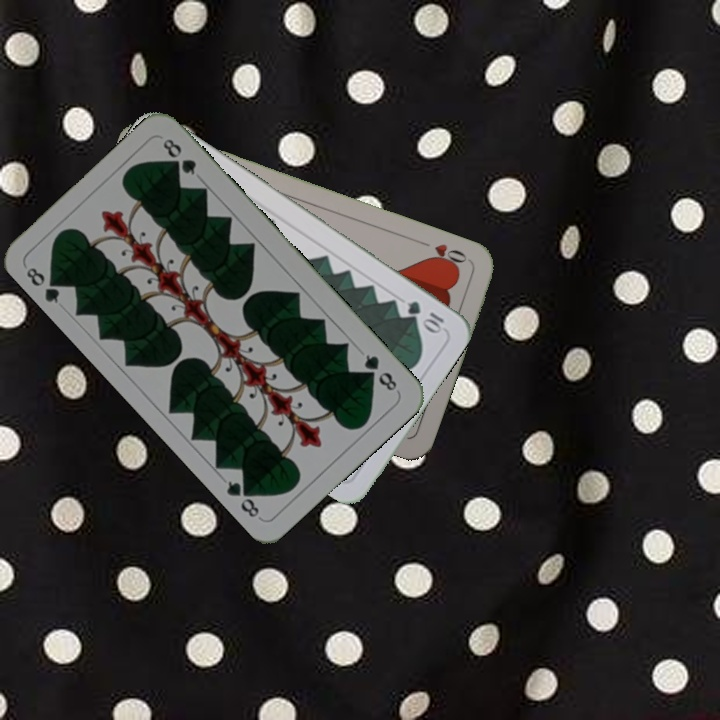G10: (403, 296, 447, 335)
G8: (22, 263, 66, 307), (359, 350, 400, 394)
HO: (415, 236, 470, 272)
